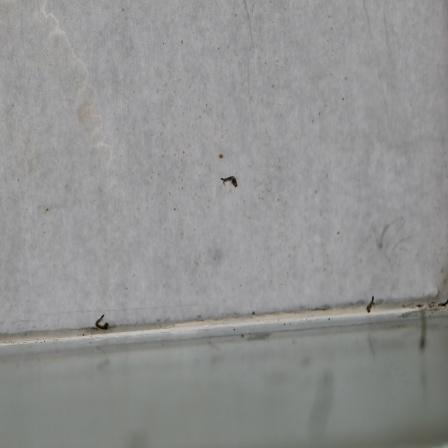Jentik-Nyamuk: (91, 309, 112, 333), (217, 172, 241, 191), (364, 292, 377, 316)
